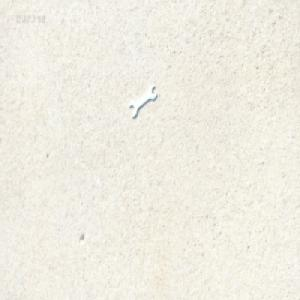Wrench: (128, 84, 157, 118)
